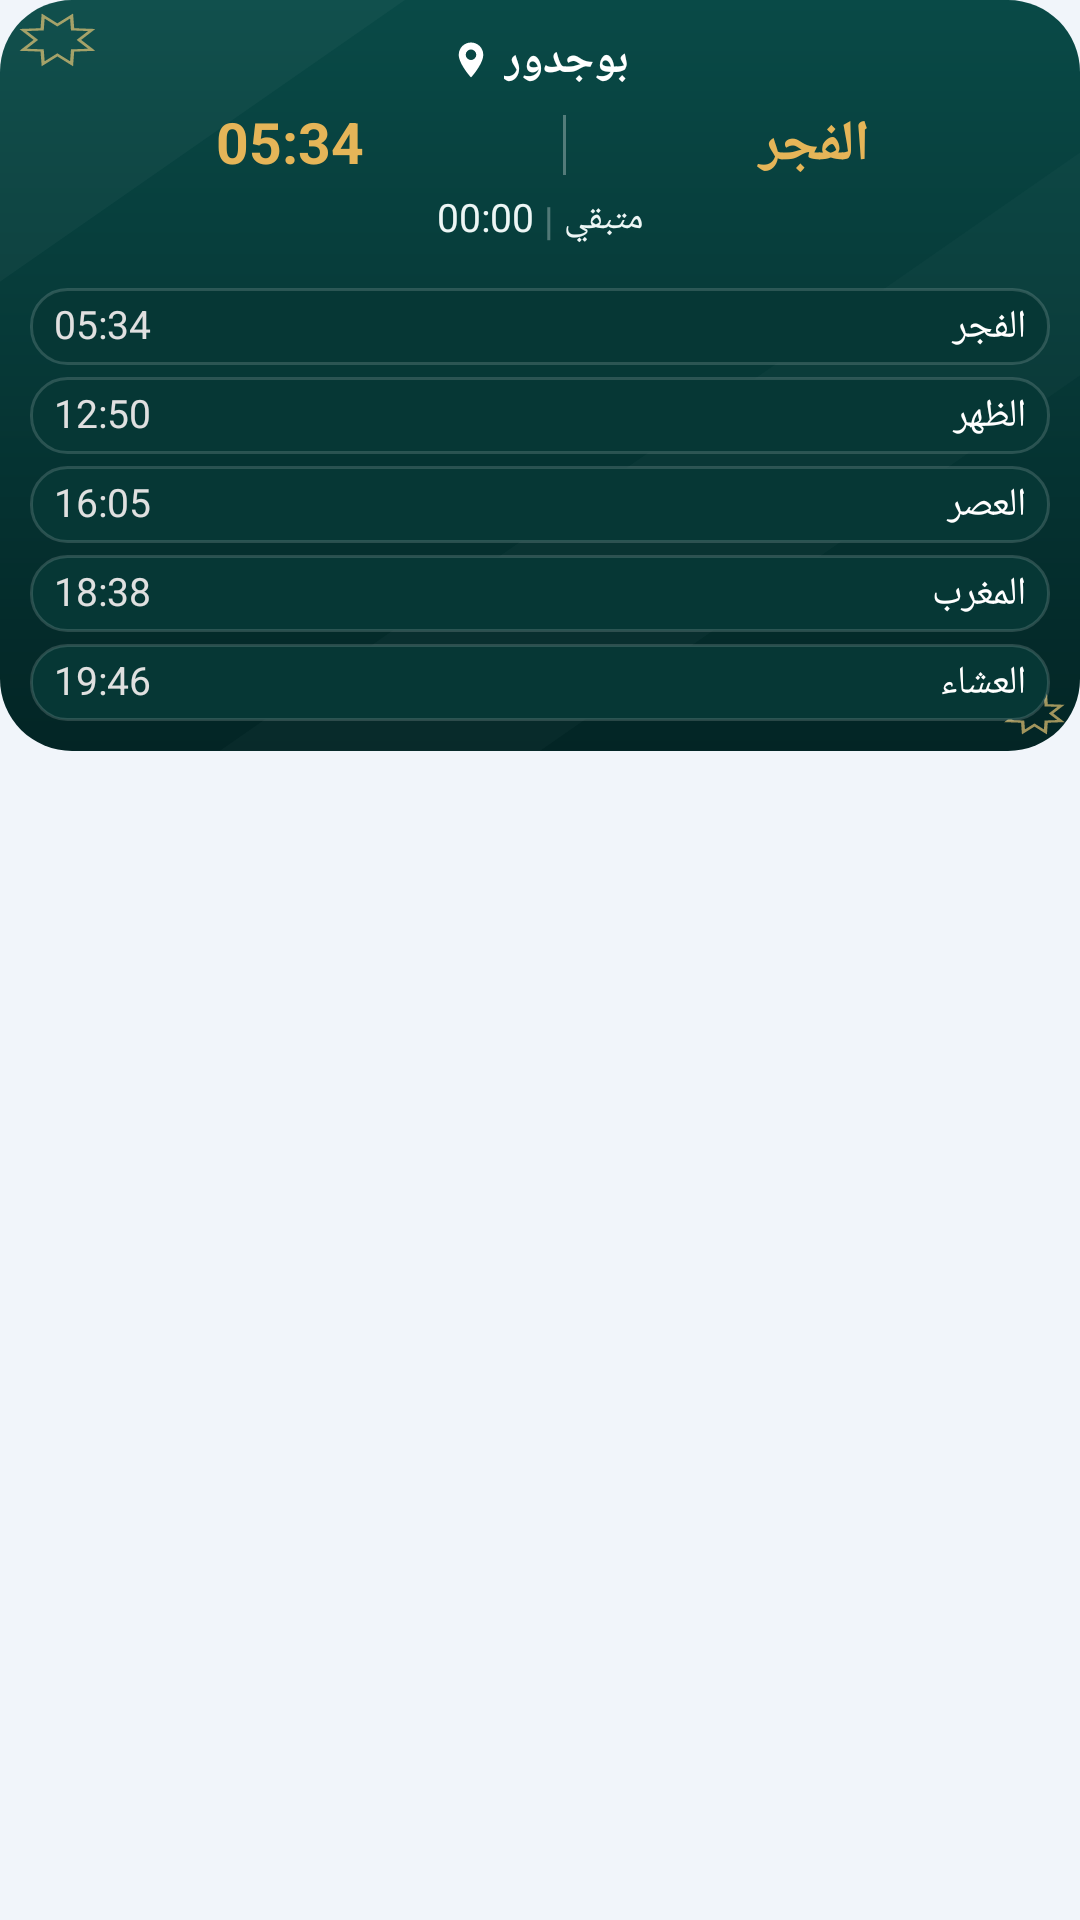

Where to tap for icons on this 1080 x 1920 app screen, as [x,y]:
المدينة: [471,59]
